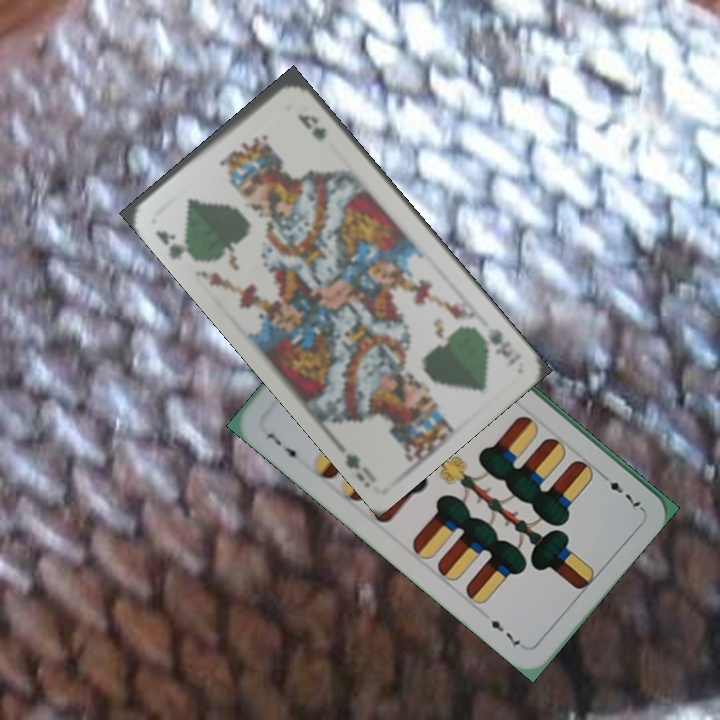E7: (596, 469, 645, 512), (262, 429, 304, 467)
GK: (151, 226, 192, 263), (484, 323, 516, 361)
